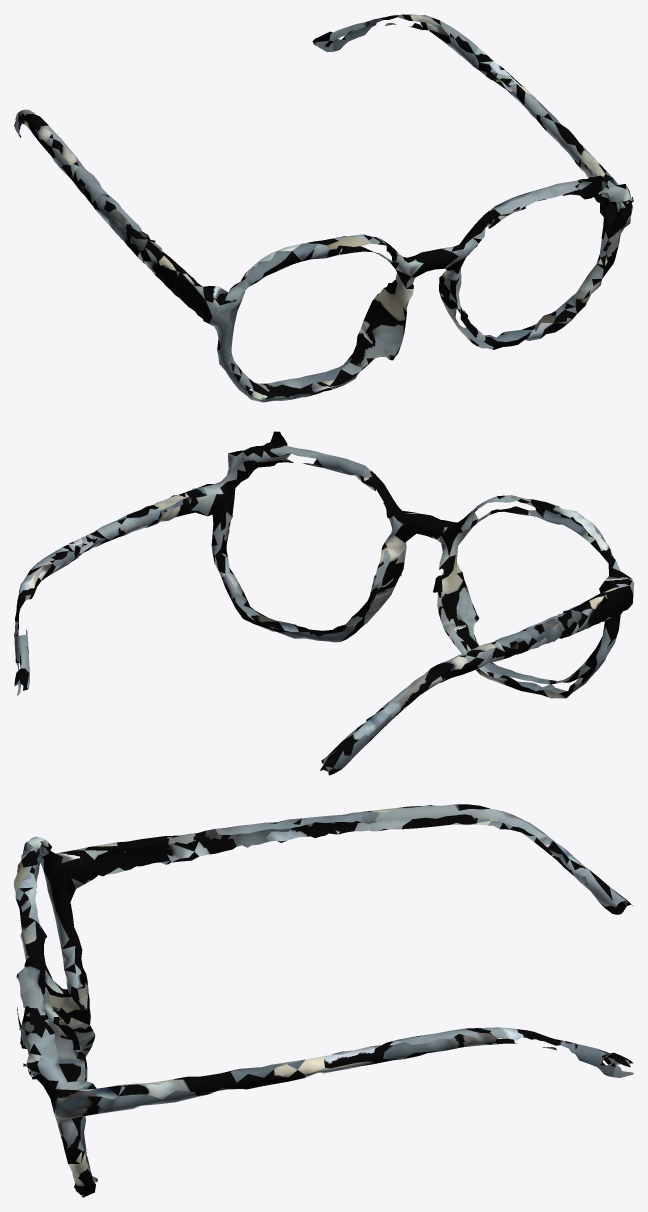
The model's file is scan_align.obj.
The picture shows the model from 3 angles, top to bottom: view 1: azimuth 30°, elevation 25°; view 2: azimuth 150°, elevation 25°; view 3: azimuth 270°, elevation 25°; orthographic projection. The views are drawn at different scales.
Bounding box in the file's own units: 0.1297 × 0.0488 × 0.1378.
